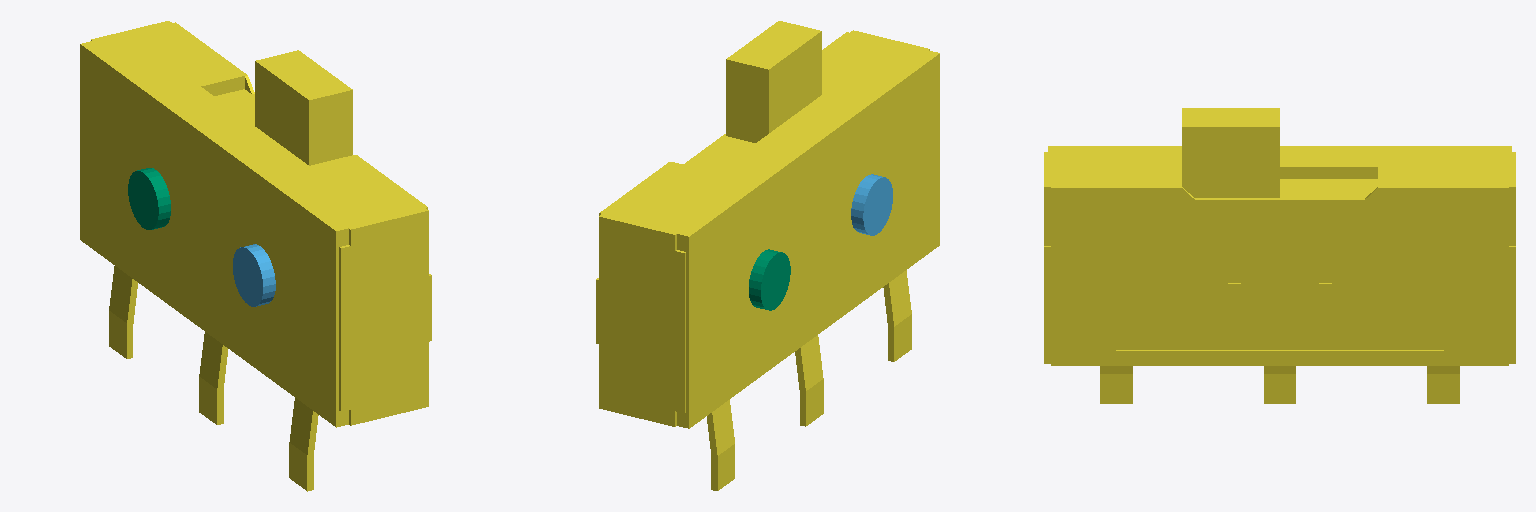
The robot description file, URDF, robot "partnet_10c0afc22a875d09cb1cbe8af9750ec6":
<?xml version="1.0" ?>
<robot name="partnet_10c0afc22a875d09cb1cbe8af9750ec6">
	<link name="base"/>
	<link name="link_0">
		<visual name="switch-1">
			<origin xyz="0 0 0"/>
			<geometry>
				<mesh filename="textured_objs/original-9.obj"/>
			</geometry>
		</visual>
		<collision>
			<origin xyz="0 0 0"/>
			<geometry>
				<mesh filename="textured_objs/original-9.obj"/>
			</geometry>
		</collision>
	</link>
	<joint name="joint_0" type="prismatic">
		<origin xyz="0 0 0"/>
		<axis xyz="0 0 -1"/>
		<child link="link_0"/>
		<parent link="link_2"/>
		<limit lower="0" upper="0.04800000000000004"/>
	</joint>
	<link name="link_1">
		<visual name="switch-2">
			<origin xyz="0 0 0"/>
			<geometry>
				<mesh filename="textured_objs/original-8.obj"/>
			</geometry>
		</visual>
		<collision>
			<origin xyz="0 0 0"/>
			<geometry>
				<mesh filename="textured_objs/original-8.obj"/>
			</geometry>
		</collision>
	</link>
	<joint name="joint_1" type="prismatic">
		<origin xyz="0 0 0"/>
		<axis xyz="0 0 -1"/>
		<child link="link_1"/>
		<parent link="link_2"/>
		<limit lower="0" upper="0.04800000000000004"/>
	</joint>
	<link name="link_2">
		<visual name="base_body-3">
			<origin xyz="0 0 0"/>
			<geometry>
				<mesh filename="textured_objs/original-4.obj"/>
			</geometry>
		</visual>
		<visual name="base_body-3">
			<origin xyz="0 0 0"/>
			<geometry>
				<mesh filename="textured_objs/original-3.obj"/>
			</geometry>
		</visual>
		<visual name="base_body-3">
			<origin xyz="0 0 0"/>
			<geometry>
				<mesh filename="textured_objs/original-2.obj"/>
			</geometry>
		</visual>
		<visual name="base_body-3">
			<origin xyz="0 0 0"/>
			<geometry>
				<mesh filename="textured_objs/original-13.obj"/>
			</geometry>
		</visual>
		<visual name="base_body-3">
			<origin xyz="0 0 0"/>
			<geometry>
				<mesh filename="textured_objs/original-5.obj"/>
			</geometry>
		</visual>
		<visual name="base_body-3">
			<origin xyz="0 0 0"/>
			<geometry>
				<mesh filename="textured_objs/original-6.obj"/>
			</geometry>
		</visual>
		<visual name="base_body-3">
			<origin xyz="0 0 0"/>
			<geometry>
				<mesh filename="textured_objs/original-15.obj"/>
			</geometry>
		</visual>
		<visual name="base_body-3">
			<origin xyz="0 0 0"/>
			<geometry>
				<mesh filename="textured_objs/original-11.obj"/>
			</geometry>
		</visual>
		<visual name="base_body-3">
			<origin xyz="0 0 0"/>
			<geometry>
				<mesh filename="textured_objs/original-12.obj"/>
			</geometry>
		</visual>
		<visual name="base_body-3">
			<origin xyz="0 0 0"/>
			<geometry>
				<mesh filename="textured_objs/original-7.obj"/>
			</geometry>
		</visual>
		<visual name="base_body-3">
			<origin xyz="0 0 0"/>
			<geometry>
				<mesh filename="textured_objs/original-1.obj"/>
			</geometry>
		</visual>
		<visual name="base_body-3">
			<origin xyz="0 0 0"/>
			<geometry>
				<mesh filename="textured_objs/original-10.obj"/>
			</geometry>
		</visual>
		<visual name="base_body-3">
			<origin xyz="0 0 0"/>
			<geometry>
				<mesh filename="textured_objs/original-14.obj"/>
			</geometry>
		</visual>
		<collision>
			<origin xyz="0 0 0"/>
			<geometry>
				<mesh filename="textured_objs/original-4.obj"/>
			</geometry>
		</collision>
		<collision>
			<origin xyz="0 0 0"/>
			<geometry>
				<mesh filename="textured_objs/original-3.obj"/>
			</geometry>
		</collision>
		<collision>
			<origin xyz="0 0 0"/>
			<geometry>
				<mesh filename="textured_objs/original-2.obj"/>
			</geometry>
		</collision>
		<collision>
			<origin xyz="0 0 0"/>
			<geometry>
				<mesh filename="textured_objs/original-13.obj"/>
			</geometry>
		</collision>
		<collision>
			<origin xyz="0 0 0"/>
			<geometry>
				<mesh filename="textured_objs/original-5.obj"/>
			</geometry>
		</collision>
		<collision>
			<origin xyz="0 0 0"/>
			<geometry>
				<mesh filename="textured_objs/original-6.obj"/>
			</geometry>
		</collision>
		<collision>
			<origin xyz="0 0 0"/>
			<geometry>
				<mesh filename="textured_objs/original-15.obj"/>
			</geometry>
		</collision>
		<collision>
			<origin xyz="0 0 0"/>
			<geometry>
				<mesh filename="textured_objs/original-11.obj"/>
			</geometry>
		</collision>
		<collision>
			<origin xyz="0 0 0"/>
			<geometry>
				<mesh filename="textured_objs/original-12.obj"/>
			</geometry>
		</collision>
		<collision>
			<origin xyz="0 0 0"/>
			<geometry>
				<mesh filename="textured_objs/original-7.obj"/>
			</geometry>
		</collision>
		<collision>
			<origin xyz="0 0 0"/>
			<geometry>
				<mesh filename="textured_objs/original-1.obj"/>
			</geometry>
		</collision>
		<collision>
			<origin xyz="0 0 0"/>
			<geometry>
				<mesh filename="textured_objs/original-10.obj"/>
			</geometry>
		</collision>
		<collision>
			<origin xyz="0 0 0"/>
			<geometry>
				<mesh filename="textured_objs/original-14.obj"/>
			</geometry>
		</collision>
	</link>
	<joint name="joint_2" type="fixed">
		<origin rpy="1.570796326794897 0 -1.570796326794897" xyz="0 0 0"/>
		<child link="link_2"/>
		<parent link="base"/>
	</joint>
</robot>

--- What the picture shows (computed from the rendered views, not written in the file) ---
The picture shows the robot from 3 angles, left to right: view 1: azimuth 30°, elevation 25°; view 2: azimuth 150°, elevation 25°; view 3: azimuth 270°, elevation 25°; orthographic projection.
Robot: partnet_10c0afc22a875d09cb1cbe8af9750ec6 — 4 links, 3 joints (2 prismatic, 1 fixed); root link base; default pose: every joint at zero.
Links seen in each view (by area): view 1: link_2, link_0, link_1; view 2: link_2, link_0, link_1; view 3: link_2.
Link boxes in pixels (left/top/right/bottom): link_2: left=80, top=21, right=431, bottom=491; link_0: left=233, top=244, right=275, bottom=306; link_1: left=128, top=168, right=170, bottom=229; link_2: left=596, top=21, right=939, bottom=490; link_0: left=851, top=174, right=892, bottom=235; link_1: left=749, top=249, right=790, bottom=310; link_2: left=1044, top=108, right=1515, bottom=403.
Size in the robot's own frame: 0.4285 by 1.81 by 1.34 metres.
15 mesh visuals loaded from 15 distinct referenced files (15 OBJ).
